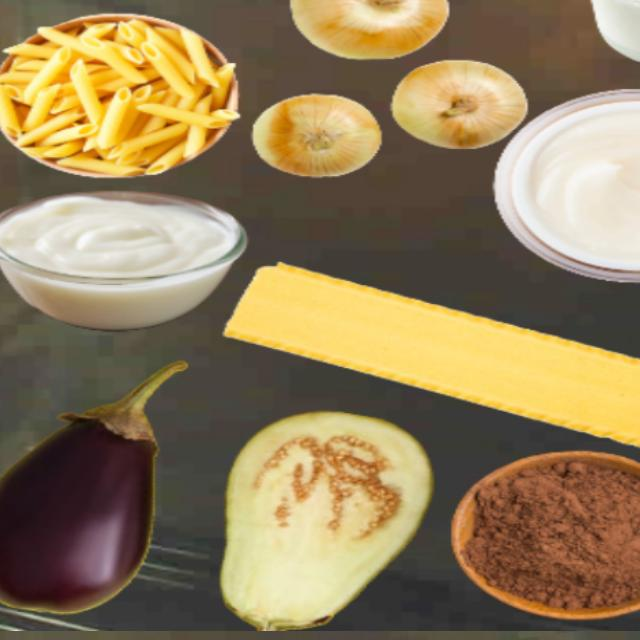Cocoa: (462, 454, 639, 612)
